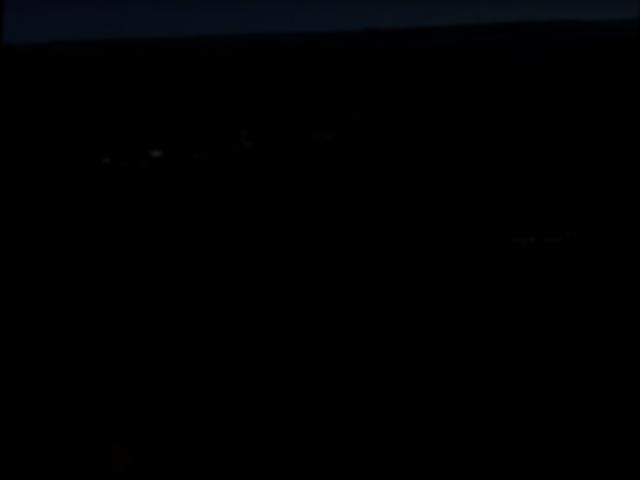iha: (493, 225, 583, 260)
